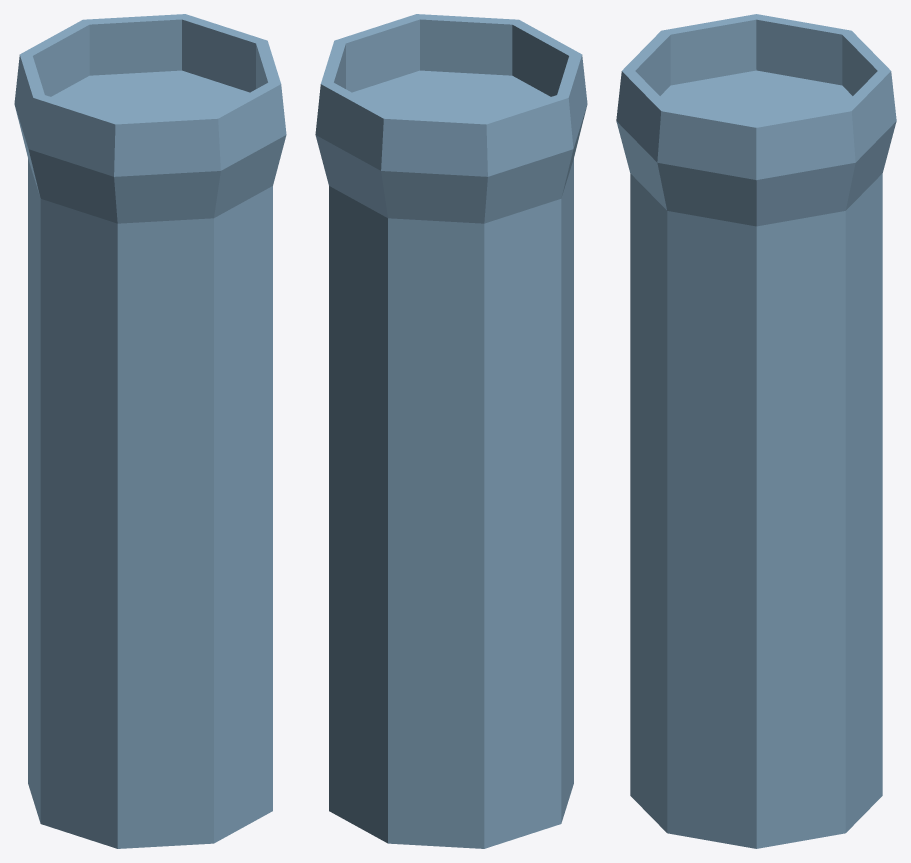
The model's file is SmallTower01.fbx.
The picture shows the model from 3 angles, left to right: view 1: azimuth 30°, elevation 25°; view 2: azimuth 150°, elevation 25°; view 3: azimuth 270°, elevation 25°; orthographic projection.
Parts seen in each view (by area): view 1: Tower; view 2: Tower; view 3: Tower.
Boxes of the visible parts, bbox=[...] form: Tower: bbox=[14, 14, 286, 848]; Tower: bbox=[315, 14, 587, 848]; Tower: bbox=[616, 14, 896, 848].
Bounding box in the file's own units: 3.57 × 10.17 × 3.57.
